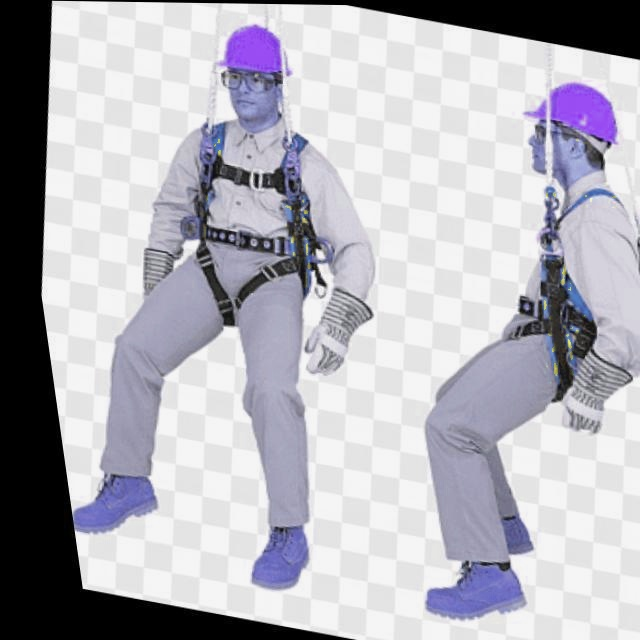safety belt: (160, 90, 320, 320), (521, 178, 630, 413)
